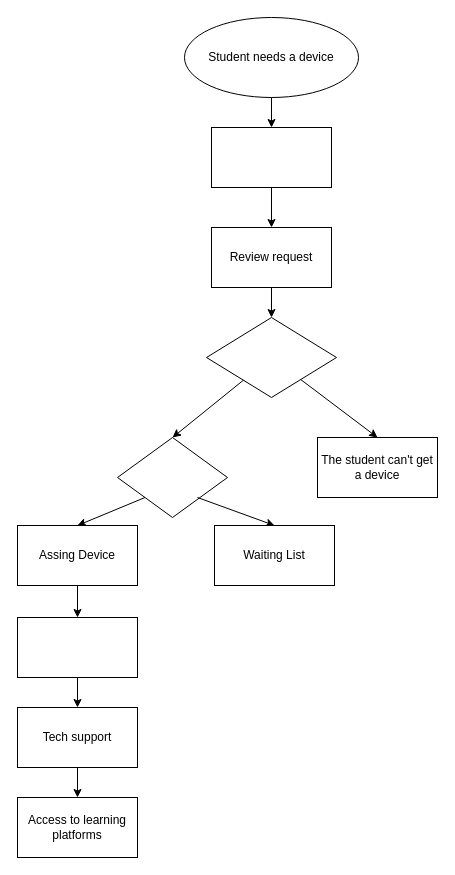
The diagram is 455 pixels wide and 875 high, and some of its shapes have lost their labels. The centre of each missing label's shape, as x and y in pixels:
"Device Available?" goes at (x=172, y=477).
"Provide Internet Access" goes at (x=77, y=647).
"Submit request" goes at (x=271, y=157).
"The student is in a blacklist?" goes at (x=271, y=357).
